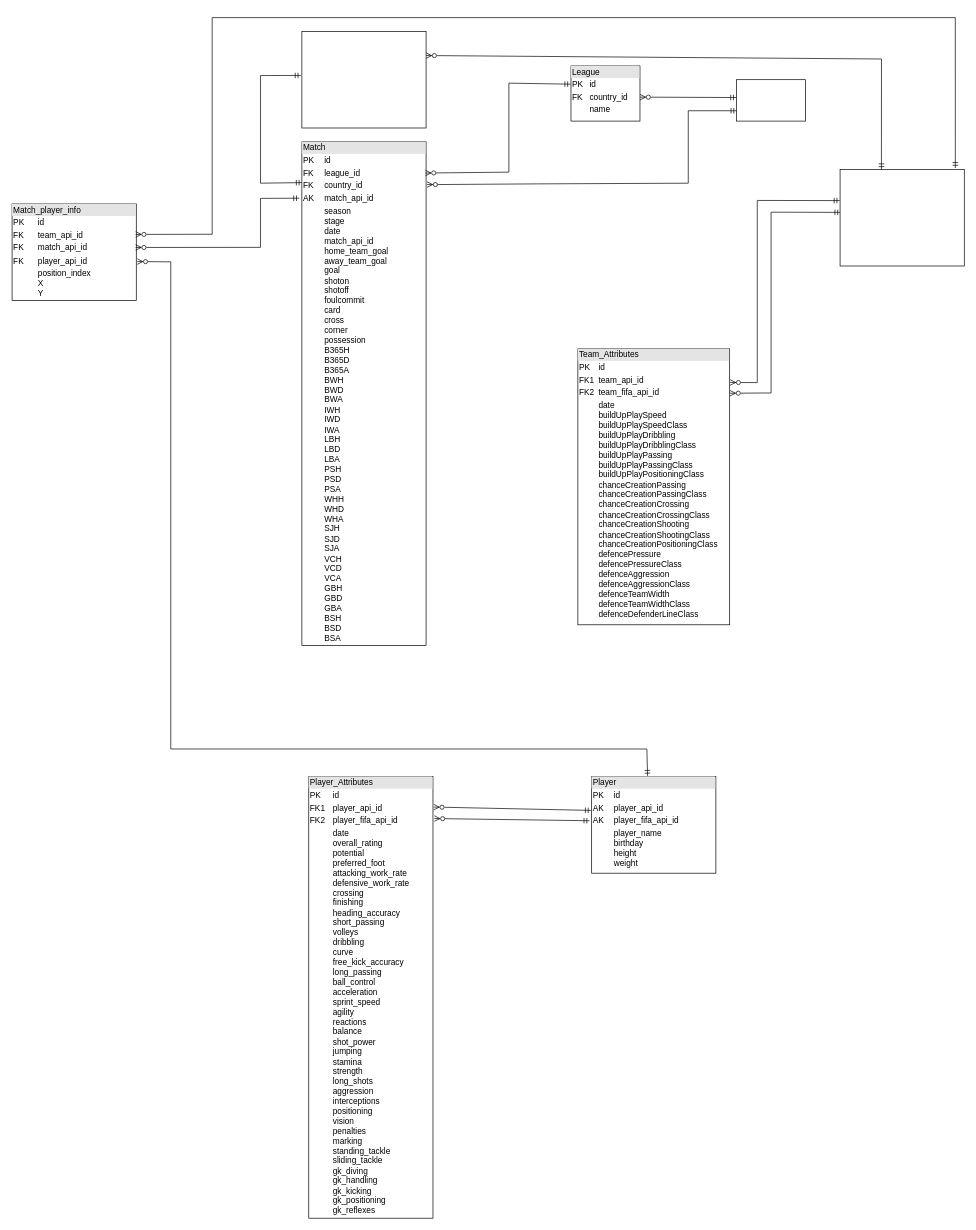
Some shapes in this 976 by 1230 pixel diagram are drawn without their labels. Each missing label, with the centre of its shape:
Country PK id name: pixel 771 100
Match_team_info PK id FK team_api_id FK match_api_id goal away: pixel 363 79
Team PK id AK team_api_id AK team_fifa_api_id team_long_name team_short_name: pixel 901 217
